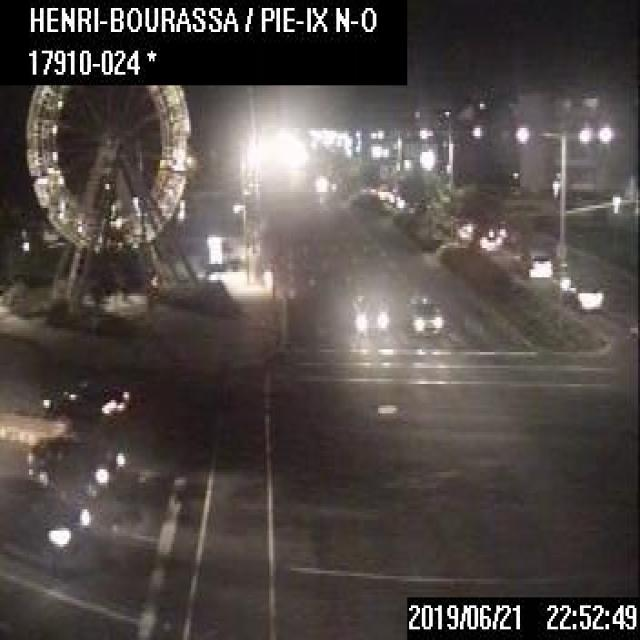vehicle: (0, 474, 91, 562), (25, 434, 126, 491), (38, 368, 129, 424), (404, 291, 444, 336), (351, 294, 389, 334), (567, 275, 602, 309), (516, 248, 551, 275), (476, 221, 498, 251)
